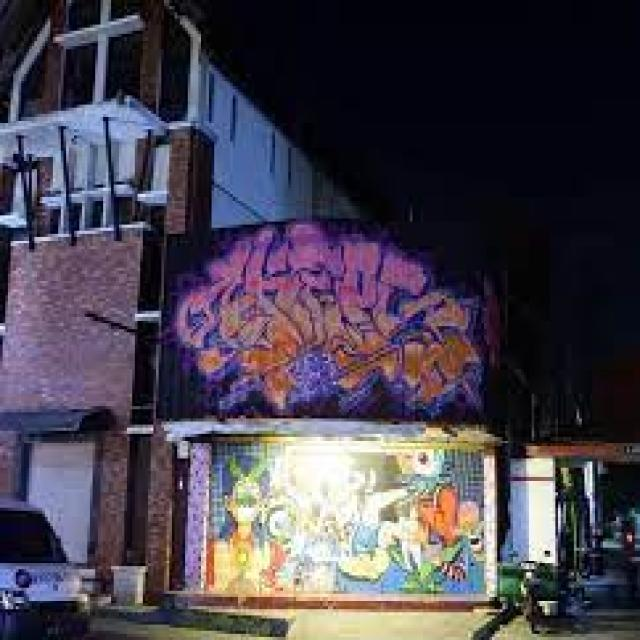-: (173, 222, 480, 410), (213, 448, 486, 594)
